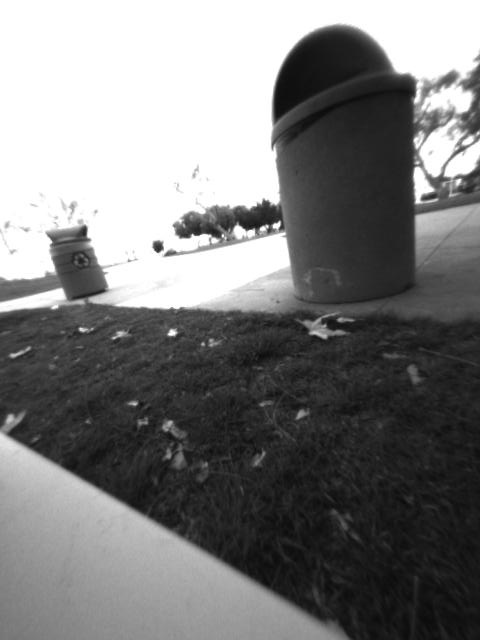trashcan: (273, 18, 421, 314)
